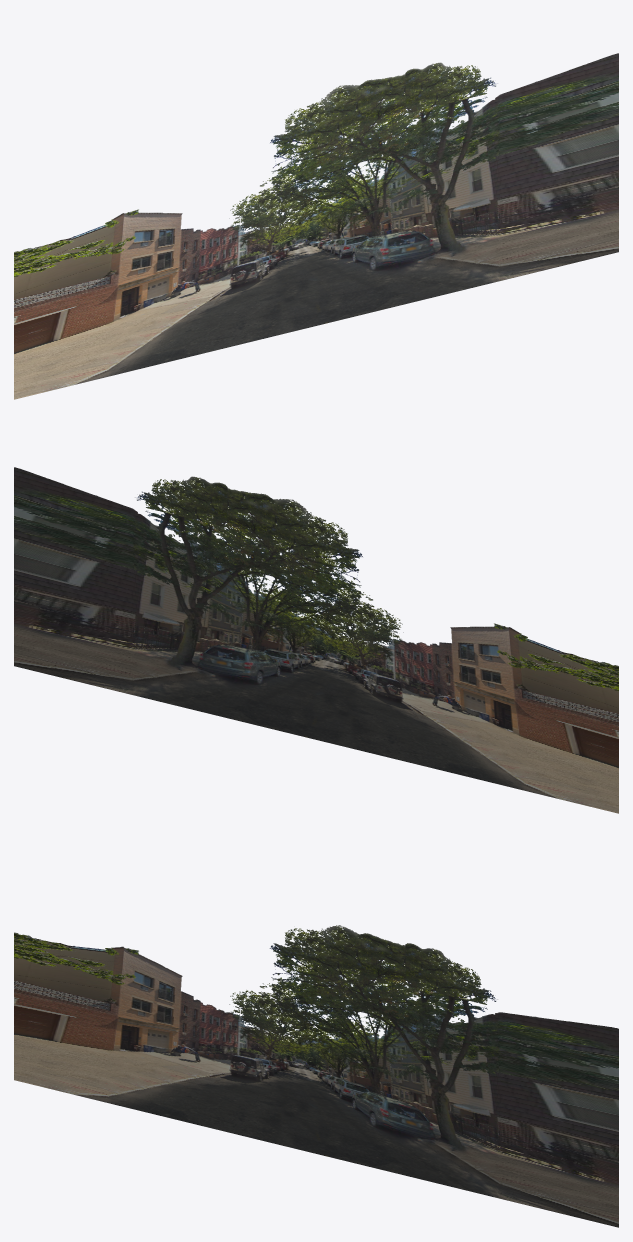
Rendered from city_backgroundBuildings2.fbx.
3 renders of one model, top to bottom at view 1: azimuth 30°, elevation 25°; view 2: azimuth 150°, elevation 25°; view 3: azimuth 330°, elevation 25°, orthographic.
Visible parts, largest first — view 1: city_backgroundBuildings2; view 2: city_backgroundBuildings2; view 3: city_backgroundBuildings2.
Part boxes in pixels (x1=…): city_backgroundBuildings2: x1=14, y1=53, x2=618, y2=399; city_backgroundBuildings2: x1=14, y1=467, x2=618, y2=813; city_backgroundBuildings2: x1=14, y1=925, x2=618, y2=1227.
Bounding box in the file's own units: 4046 × 0.000977 × 1521.
1 material, 1 textured.
